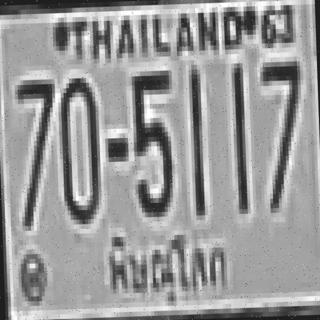N00: (57, 73, 99, 220)
N01: (231, 60, 248, 212), (188, 64, 205, 216)
N05: (131, 68, 173, 215)
N07: (259, 56, 302, 208), (14, 74, 56, 226)
P46: (97, 226, 233, 307)
